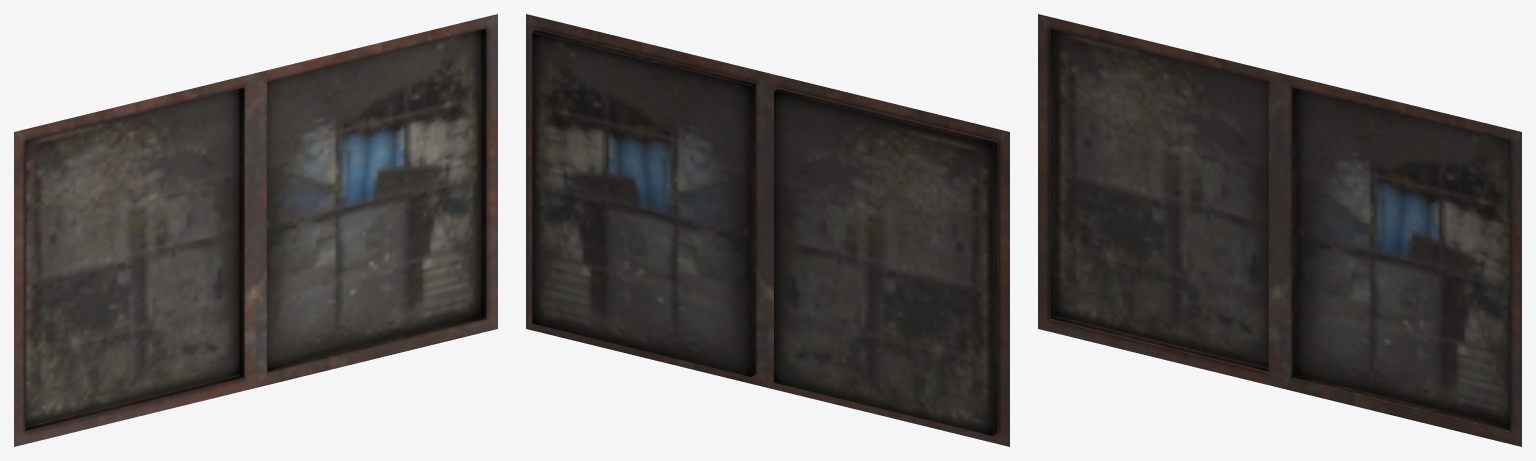
File: D_Window_02.FBX
3 renders of one model, left to right at view 1: azimuth 30°, elevation 25°; view 2: azimuth 150°, elevation 25°; view 3: azimuth 330°, elevation 25°, orthographic.
Visible parts, largest first — view 1: D_Window_02; view 2: D_Window_02; view 3: D_Window_02.
Boxes of the visible parts, left/top/right/bottom form: D_Window_02: left=14, top=14, right=497, bottom=446; D_Window_02: left=526, top=14, right=1009, bottom=446; D_Window_02: left=1038, top=14, right=1521, bottom=446.
Size of the model in its own units: 264 by 164 by 5.
